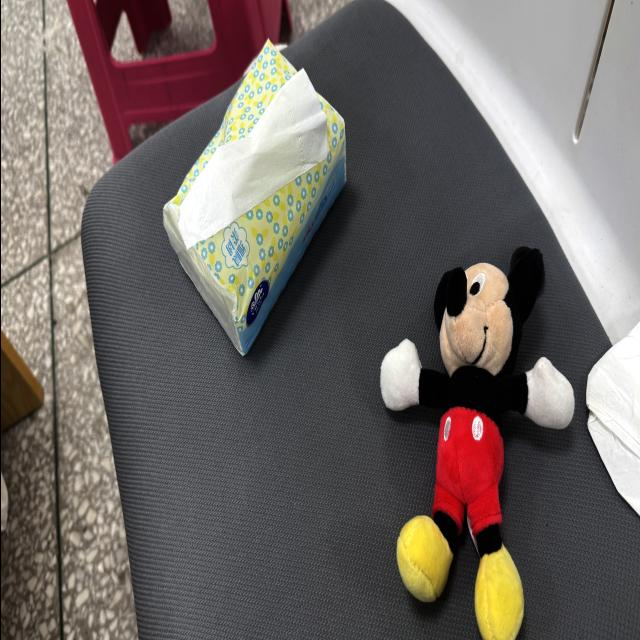mickey: (380, 248, 573, 639)
tissue: (163, 43, 344, 354), (178, 70, 328, 247), (585, 323, 639, 515)
